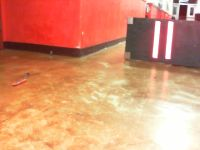switch: (164, 21, 174, 59), (152, 21, 161, 59)
